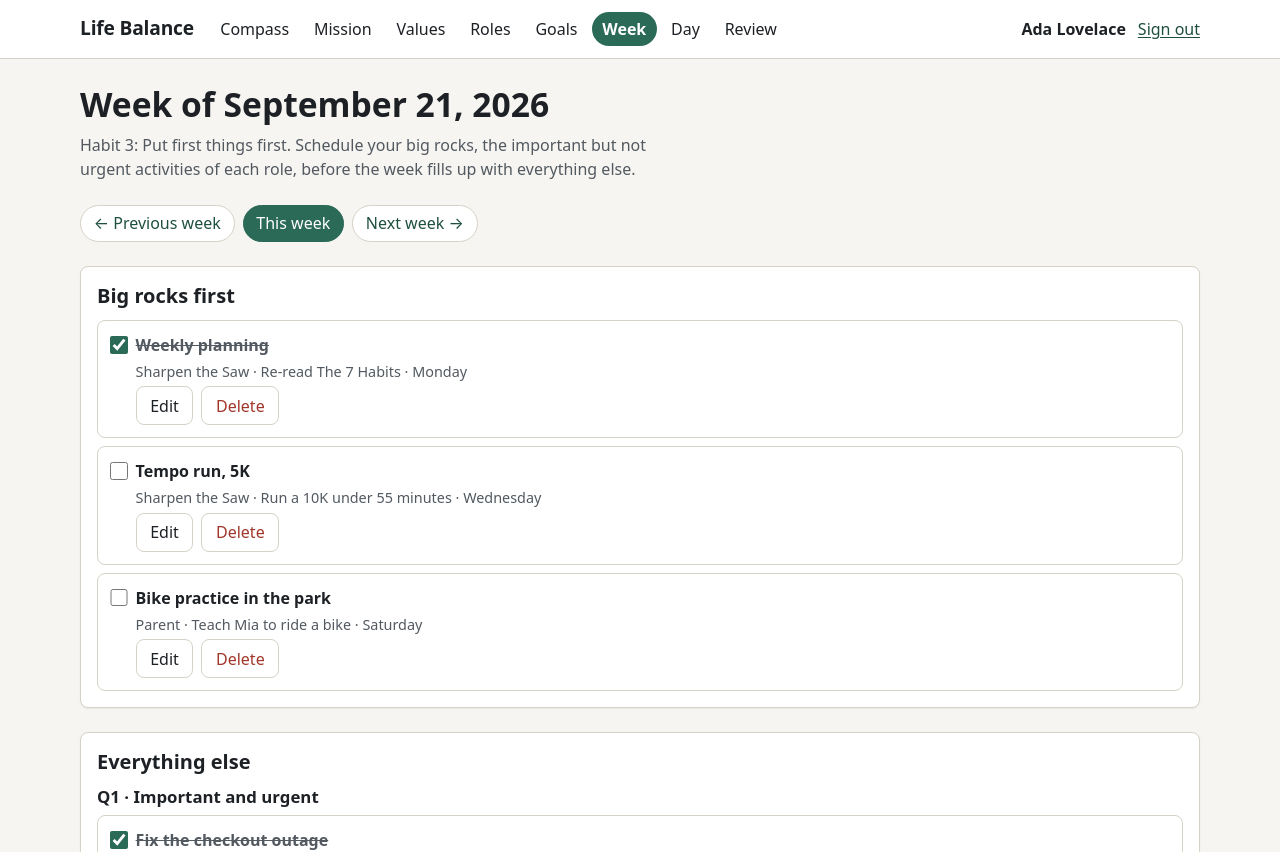
Test case: keeps the achieved goal an activity serves when editing it
The width and height of the screenshot is (1280, 852).
Click the button named "Edit Weekly planning" at (164, 406), box top-left (136, 386), bottom-right (193, 425)
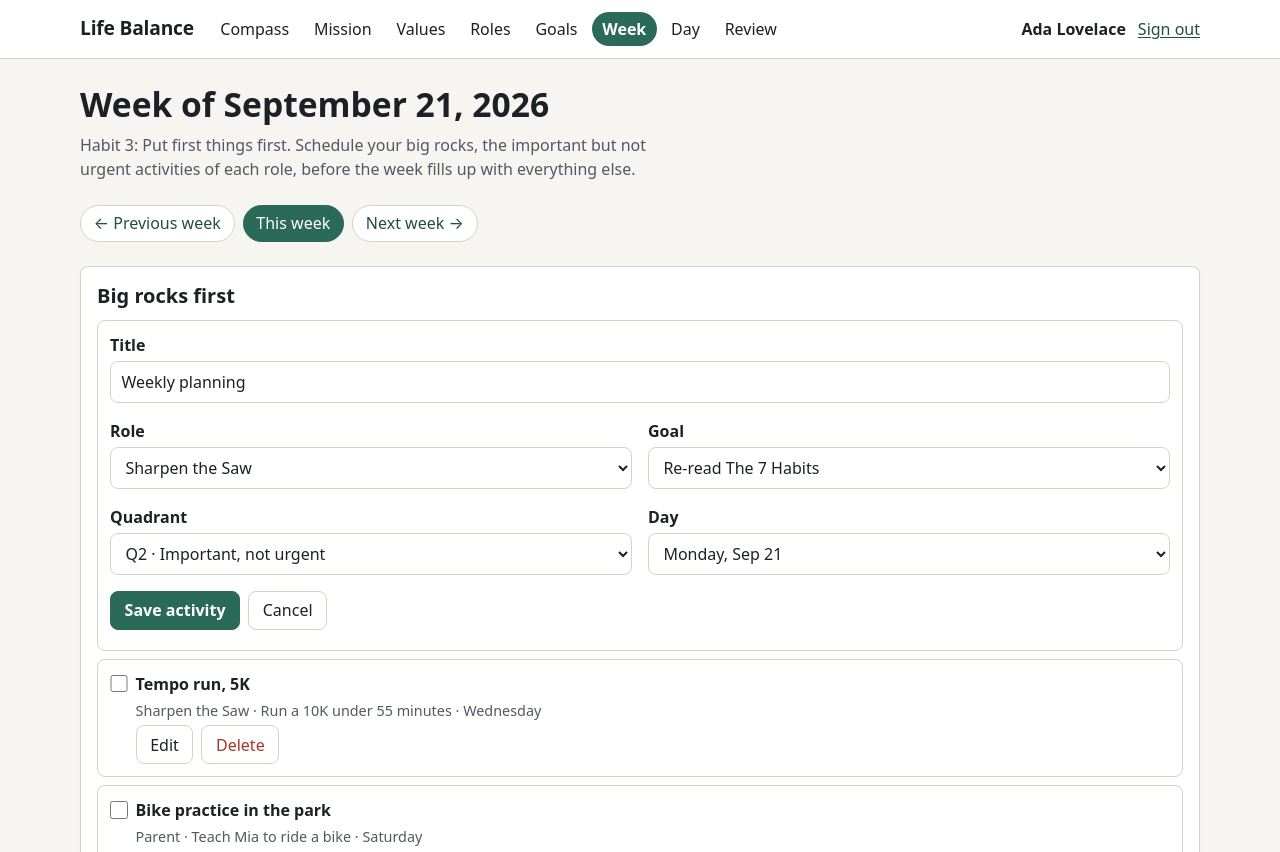
Expected: the dropdown labelled "Goal" shows "Re-read The 7 Habits", top-left (648, 447), bottom-right (1170, 489)
Click the button "Cancel" at (288, 610), box top-left (248, 591), bottom-right (327, 630)
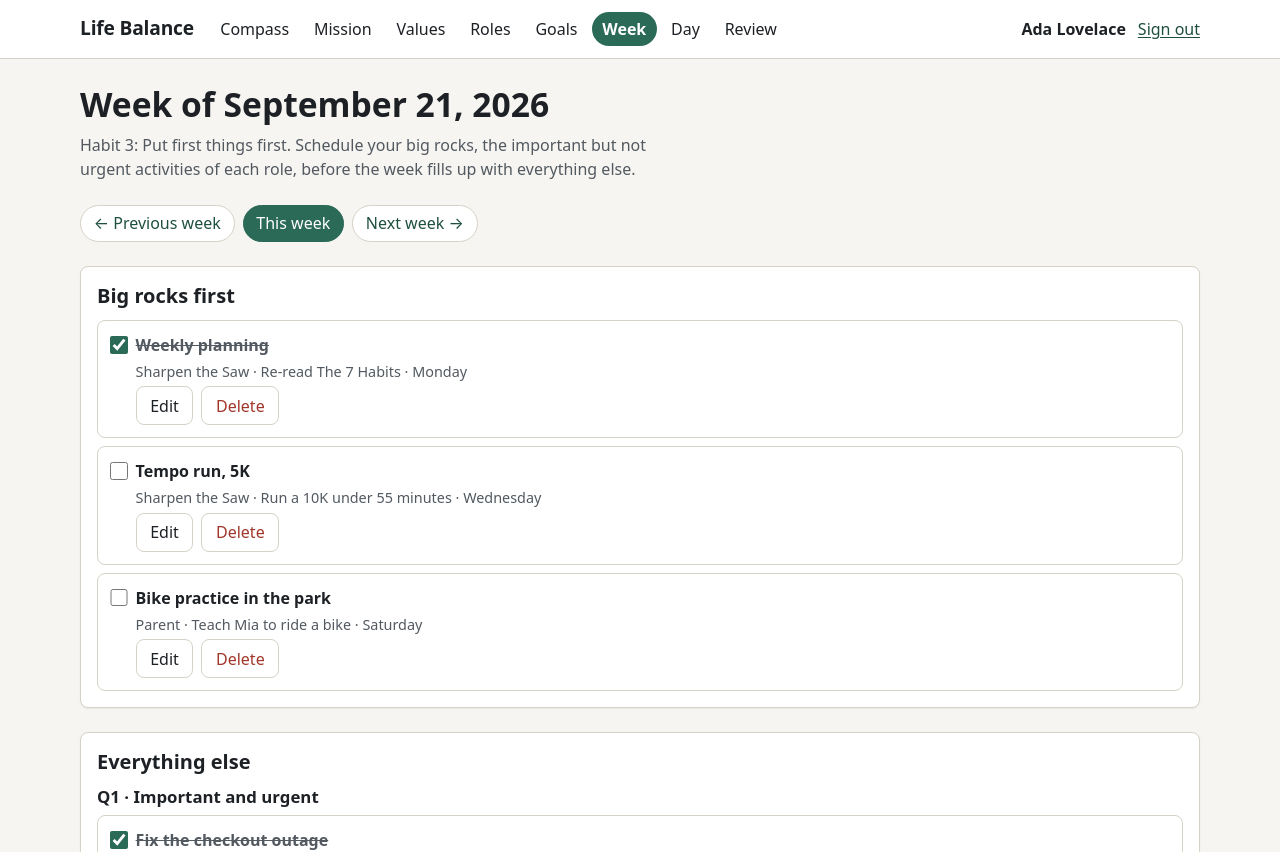
Expected: the text "Sharpen the Saw · Re-read The 7 Habits · Monday" is shown, top-left (136, 362), bottom-right (467, 381)
